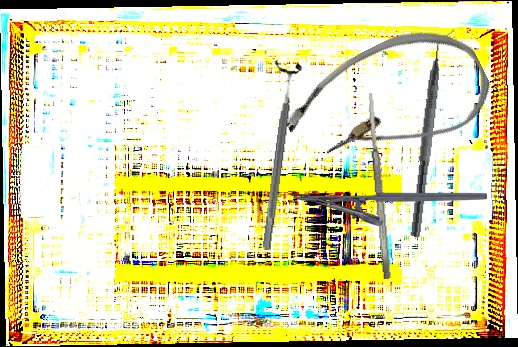Cannula: (273, 7, 502, 197)
Chopper: (410, 26, 457, 239)
Fixation Ring: (251, 58, 304, 253)
Needle Holder: (293, 192, 487, 226)
Spatula Surgical: (365, 92, 393, 280)
